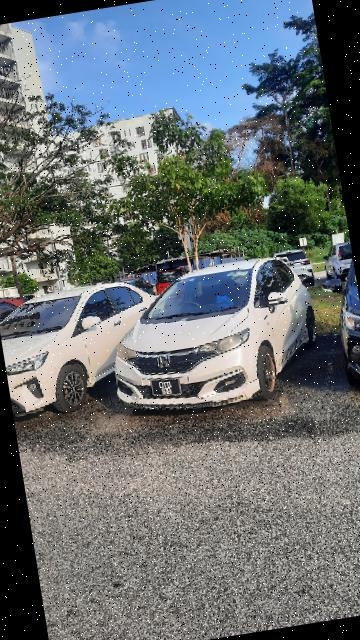License_Plate: (148, 372, 188, 404)
car: (98, 246, 330, 423), (1, 273, 179, 424)
